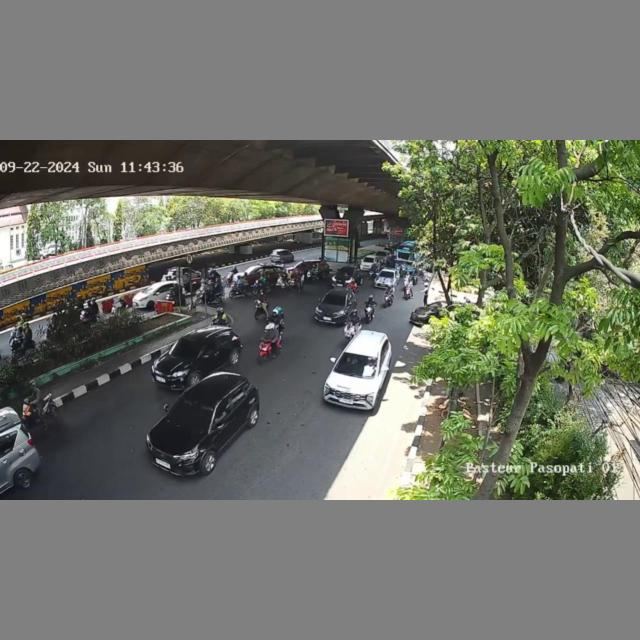windshield: (166, 398, 214, 432), (333, 351, 380, 379), (169, 337, 205, 362), (323, 293, 346, 307), (379, 270, 394, 278)
